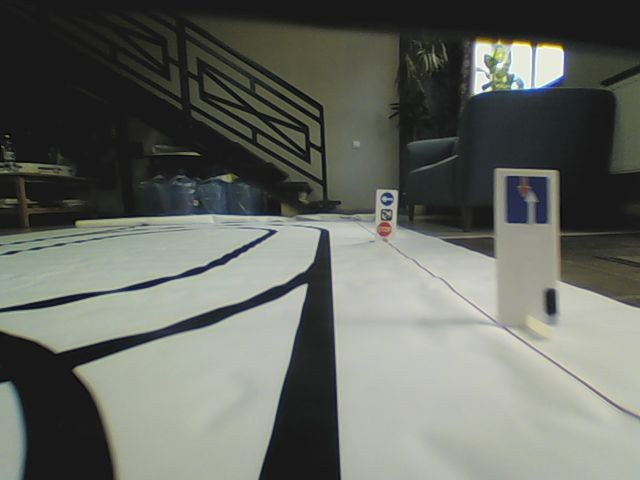priority_movement: (505, 175, 551, 227)
